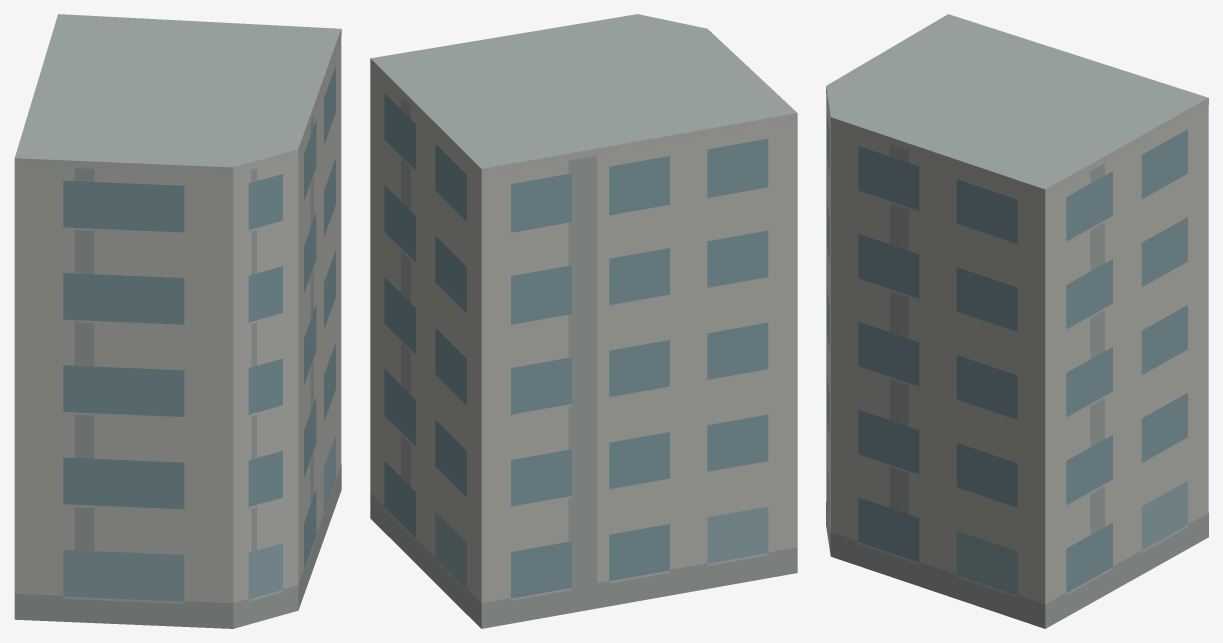
Rendered from survey-upis-32865957.glb.
The picture shows the model from 3 angles, left to right: view 1: azimuth 30°, elevation 25°; view 2: azimuth 150°, elevation 25°; view 3: azimuth 270°, elevation 25°; orthographic projection. The views are drawn at different scales.
Visible parts, largest first — view 1: survey-upis-32865957.tmp; view 2: survey-upis-32865957.tmp; view 3: survey-upis-32865957.tmp.
Part boxes in pixels (x1,y1,x2,y2): survey-upis-32865957.tmp: (14,14,341,628); survey-upis-32865957.tmp: (370,14,797,628); survey-upis-32865957.tmp: (826,14,1208,628).
Size of the model in its own units: 13.07 by 15.25 by 12.05.
